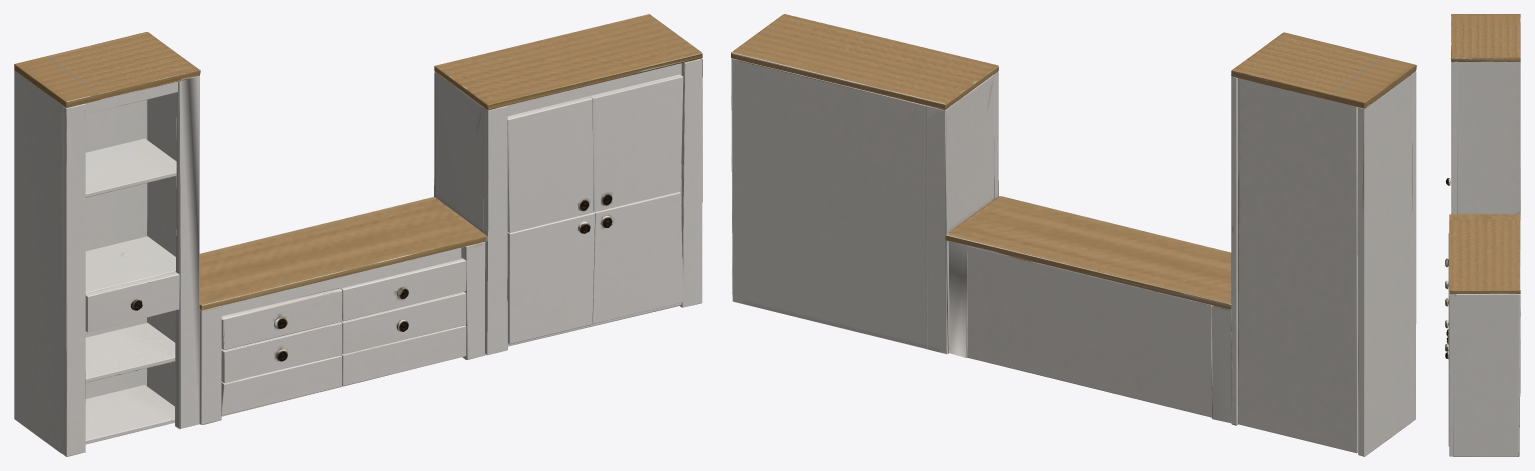
File: Meshy_AI_White_Oak_Modular_Sto_1020124537_texture.glb
3 renders of one model, left to right at view 1: azimuth 30°, elevation 25°; view 2: azimuth 150°, elevation 25°; view 3: azimuth 270°, elevation 25°, orthographic. The views are drawn at different scales.
Bounding box in the file's own units: 0.957 × 0.5117 × 0.1479.
1 material, 1 textured.
